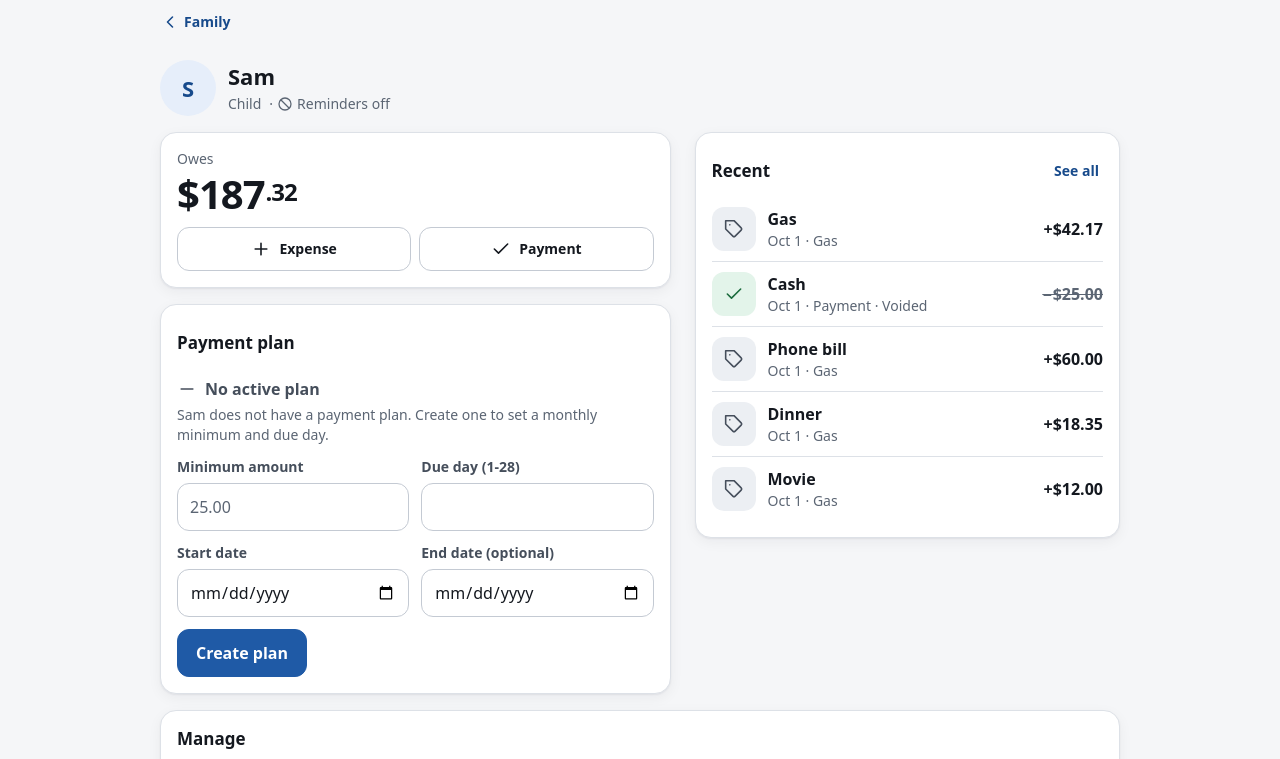
it: FamilyMemberPage: payment plan editing › shows the function's error when creating fails, and keeps the form
The width and height of the screenshot is (1280, 759).
Type "25" into the field labelled "Minimum amount" at (293, 507), box [177,483,409,531]
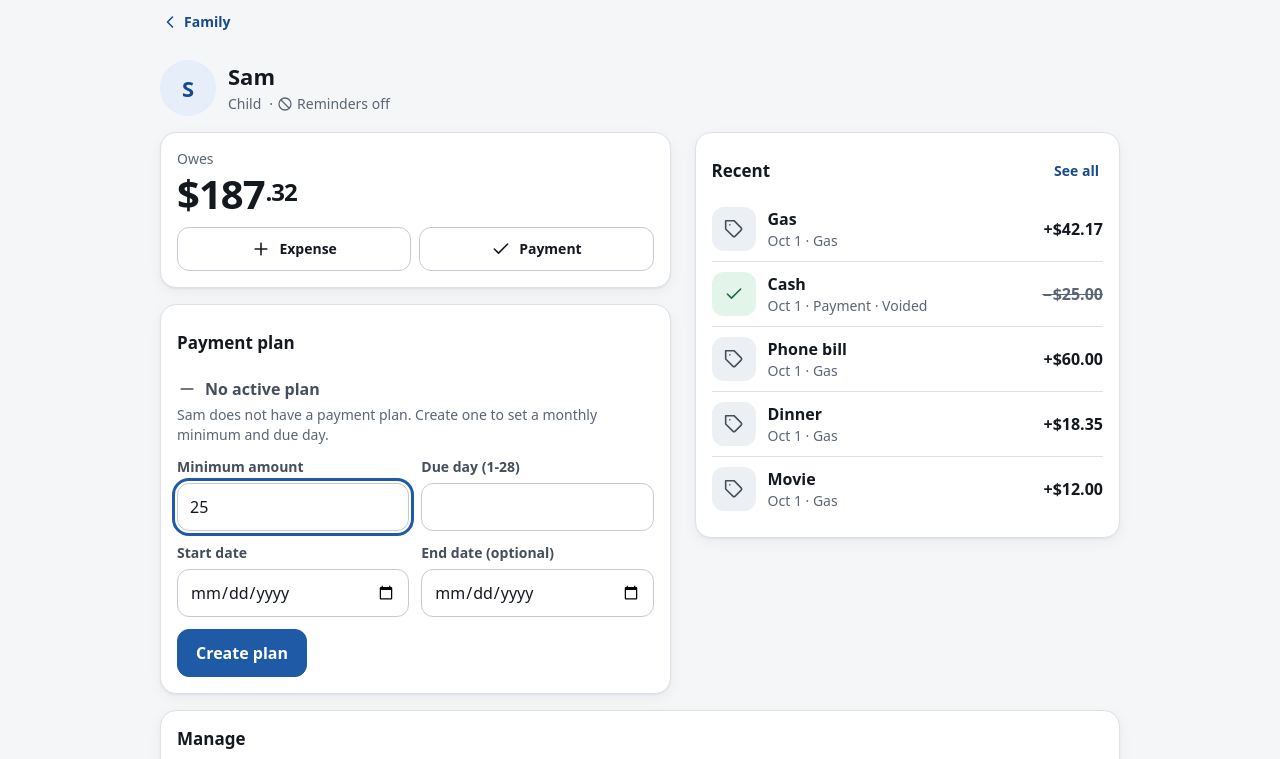
Type "10" into the number field labelled "Due day (1-28)" at (537, 507), box [421,483,654,531]
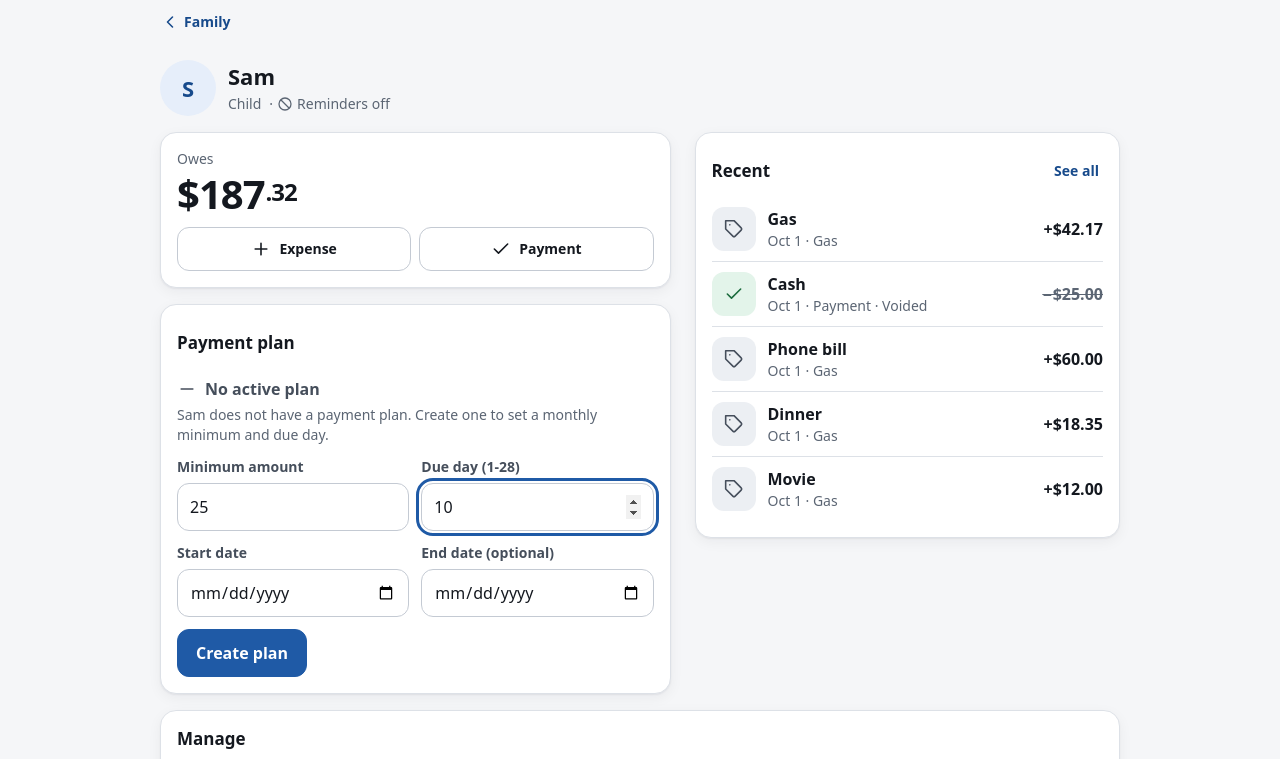
Type "2026-10-01" into the date field labelled "Start date" at (293, 593), box [177,569,409,617]
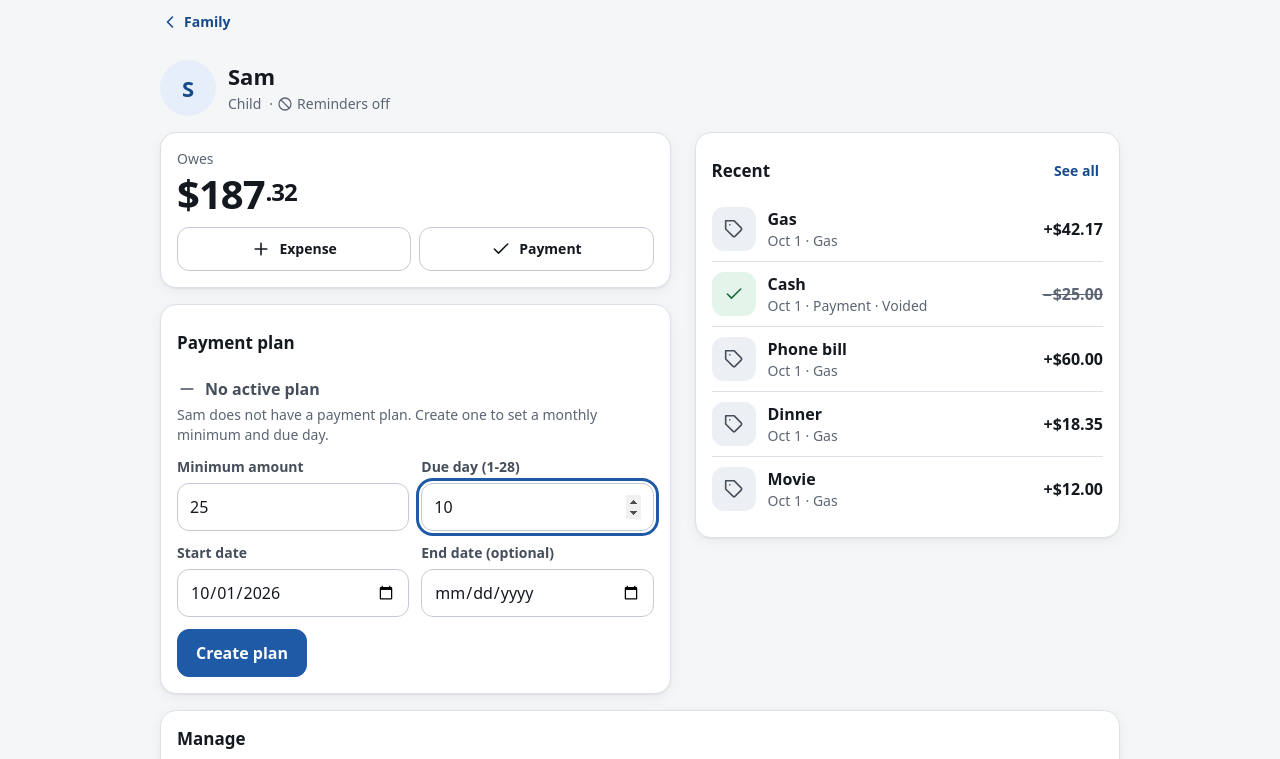
Click the button "Create plan" at (242, 653), box [177,629,307,677]
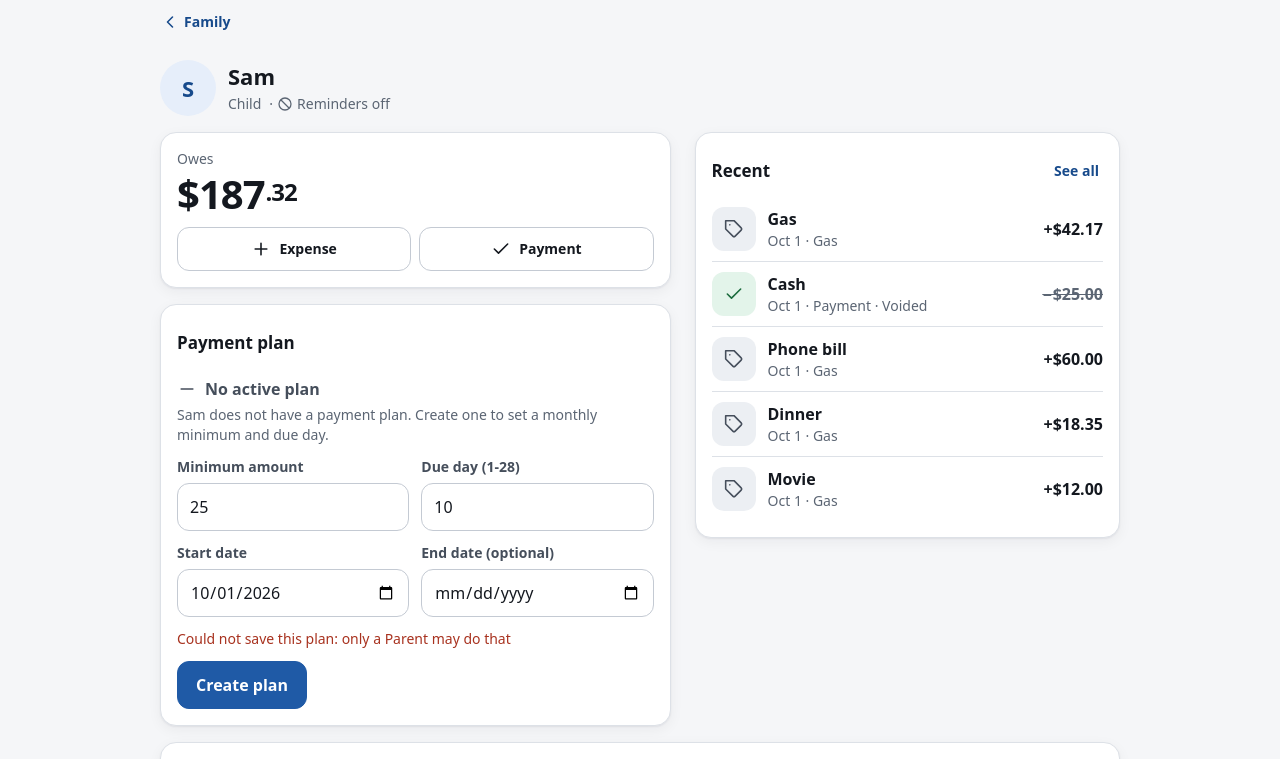
Expected: the button "Create plan" is shown, [177,661,307,709]
Now the message reads "Could not save this plan: only a Parent may do that", box [177,629,511,648]
